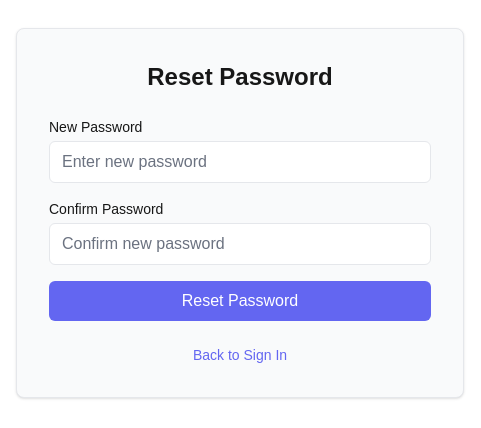
Test: ResetPasswordPage › shows validation error when passwords do not match
Step 1. Type "Str0ng!Pass" into the password field labelled "New Password" → (240, 162), box 49,141 -> 431,183
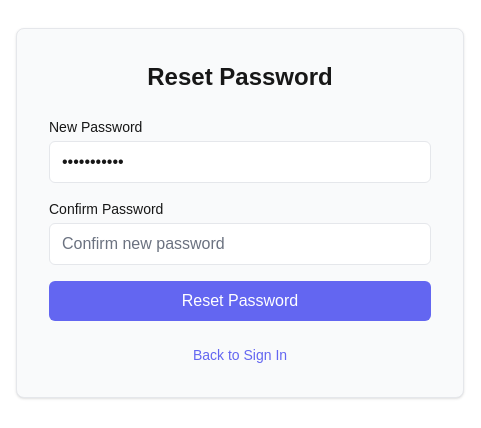
Step 2. Type "Different!1" into the password field labelled "Confirm Password" → (240, 244), box 49,223 -> 431,265
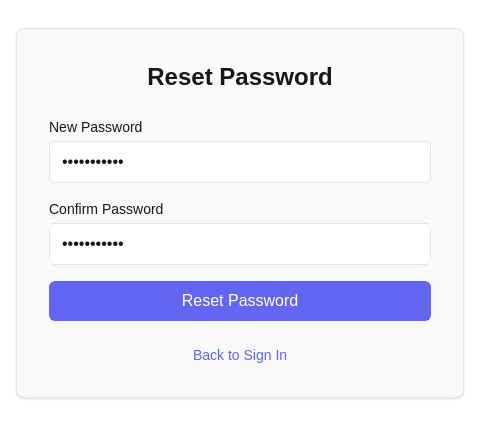
Step 3. Click the button "Reset Password" → (240, 301), box 49,281 -> 431,321
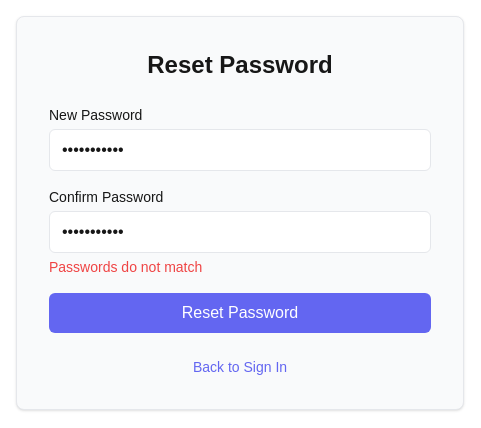
Now the text "Passwords do not match" is shown, box 49,259 -> 202,275
